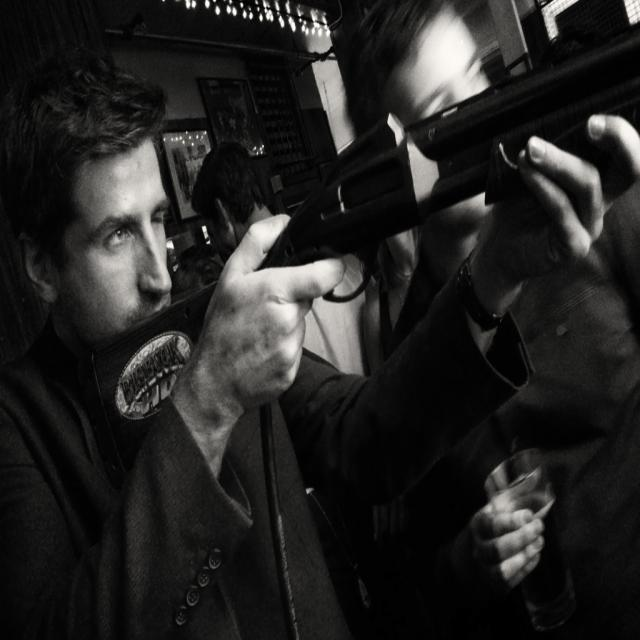weapon: (88, 0, 640, 478)
